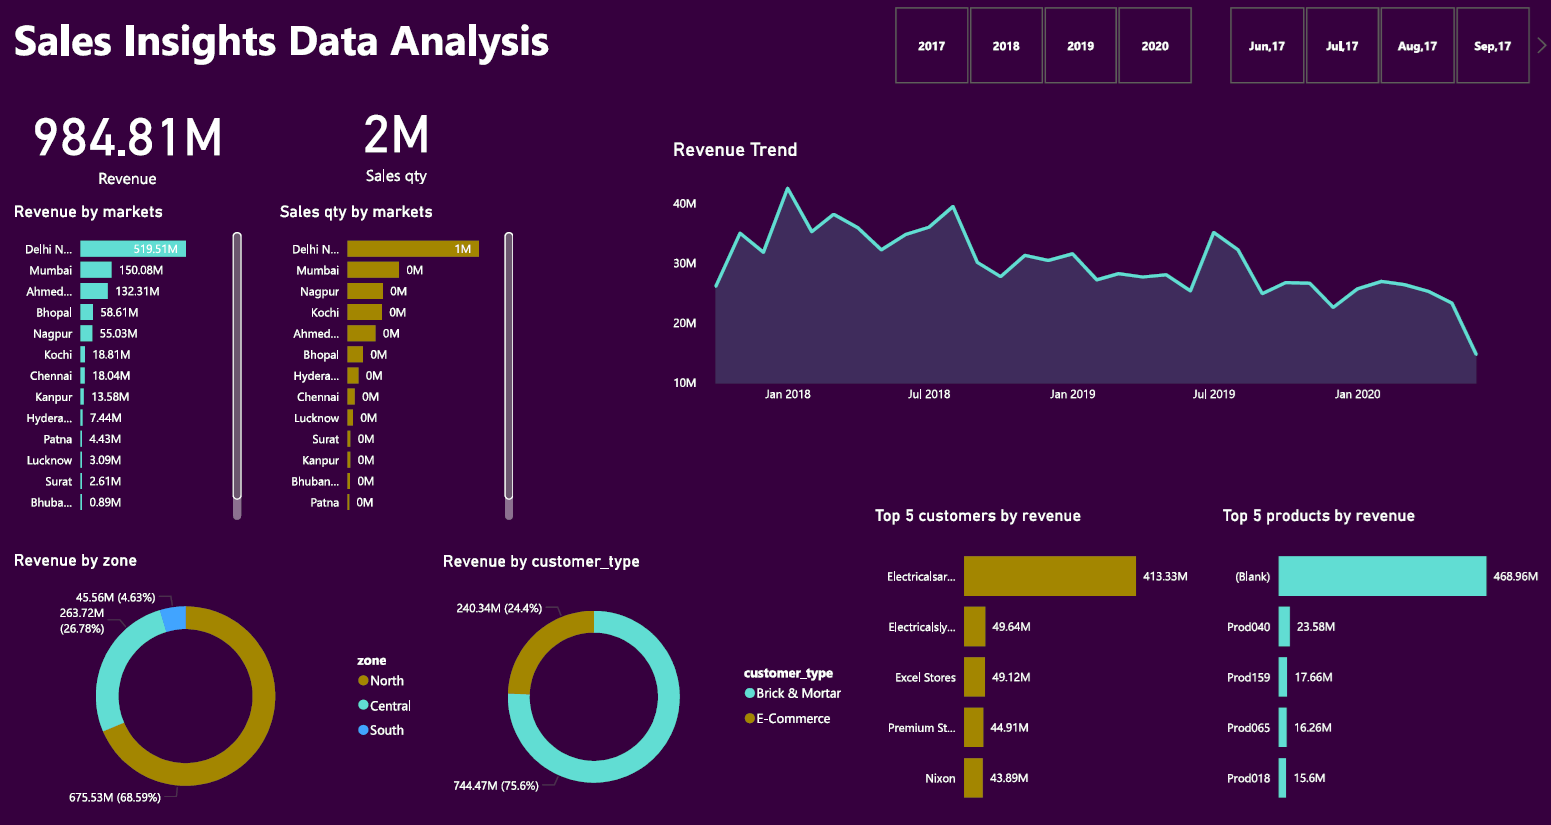

Layout of this report page (visuals, bound fields, positions):
{"tool":"powerbi","page":{"name":"Page 1","canvas":[1600,850],"ordinal":0},"visuals":[{"type":"card","fields":{"Values":["Measure.Revenue"]},"box":[10.2,93,244.2,106.1],"z":0},{"type":"card","fields":{"Values":["Measure.Sales qty"]},"box":[284.4,90.6,250,104.7],"z":1000},{"type":"barChart","title":"Revenue by markets","fields":{"Y":["Measure.Revenue"],"Category":["sales markets.markets_name"]},"box":[10.2,209.3,244.2,332.8],"z":2000},{"type":"barChart","title":"Sales qty by markets","fields":{"Y":["Measure.Sales qty"],"Category":["sales markets.markets_name"]},"box":[284.4,209.4,250,332.8],"z":3000},{"type":"slicer","fields":{"Values":["sales dates.years"]},"box":[896.9,1.6,354.7,92.2],"z":4000},{"type":"slicer","fields":{"Values":["sales dates.cy_date"]},"box":[1242.2,1.6,357.8,92.2],"z":5000},{"type":"barChart","title":"Top 5 customers by revenue","fields":{"Category":["sales customers.custmer_name"],"Y":["Measure.Revenue"]},"box":[896.9,521.9,337.5,328.1],"z":6000},{"type":"barChart","title":"Top 5 products by revenue","fields":{"Y":["Measure.Revenue"],"Category":["sales products.product_code"]},"box":[1254.7,521.9,335.9,328.1],"z":7000},{"type":"lineChart","title":"Revenue Trend","fields":{"Y":["Measure.Revenue"],"Category":["sales dates.cy_date"]},"box":[689.1,143.8,860.9,281.2],"z":8000},{"type":"textbox","box":[10.2,7.3,655.5,79.9],"z":9000},{"type":"donutChart","fields":{"Category":["sales markets.zone"],"Y":["Measure.Revenue"]},"box":[10.2,568.3,428.8,282],"z":10000},{"type":"donutChart","fields":{"Category":["sales customers.customer_type"],"Y":["Measure.Revenue"]},"box":[451.6,568.8,429.7,281.2],"z":11000}]}

Visuals, with their boxes in screenshot pixels (x1, y1, x2, y2), scaled from the page's 1600x850 canvas onto the 1551x825 screenshot:
card - Measure.Revenue: <region>10, 90, 247, 193</region>
card - Measure.Sales qty: <region>276, 88, 518, 190</region>
"Revenue by markets" barChart: <region>10, 203, 247, 526</region>
"Sales qty by markets" barChart: <region>276, 203, 518, 526</region>
slicer - sales dates.years: <region>869, 2, 1213, 91</region>
slicer - sales dates.cy_date: <region>1204, 2, 1550, 91</region>
"Top 5 customers by revenue" barChart: <region>869, 507, 1197, 824</region>
"Top 5 products by revenue" barChart: <region>1216, 507, 1542, 824</region>
"Revenue Trend" lineChart: <region>668, 140, 1503, 412</region>
textbox: <region>10, 7, 645, 85</region>
donutChart - sales markets.zone x Measure.Revenue: <region>10, 552, 426, 824</region>
donutChart - sales customers.customer_type x Measure.Revenue: <region>438, 552, 854, 824</region>
